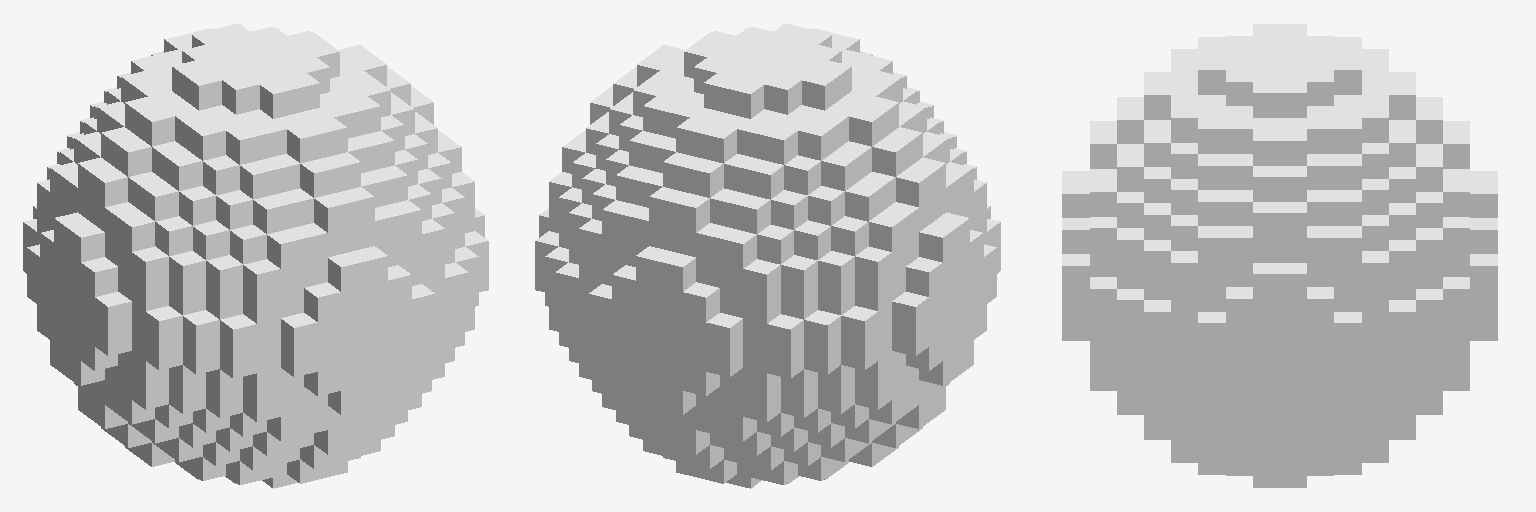
Rendered from Halloween.obj.
3 views of the same model, side by side, from view 1: azimuth 30°, elevation 25°; view 2: azimuth 150°, elevation 25°; view 3: azimuth 270°, elevation 25° (orthographic).
Size of the model in its own units: 16 by 16 by 16.